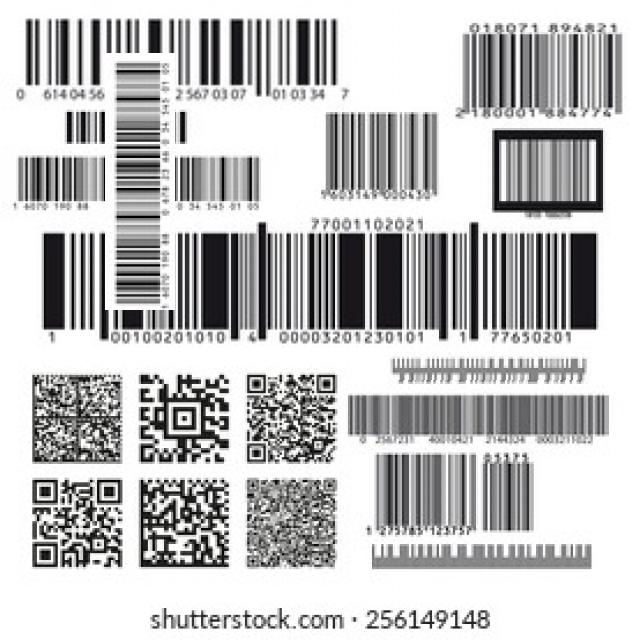Barkod: (31, 220, 606, 347), (16, 9, 359, 106), (58, 100, 222, 264), (451, 10, 634, 126), (339, 380, 622, 450)
